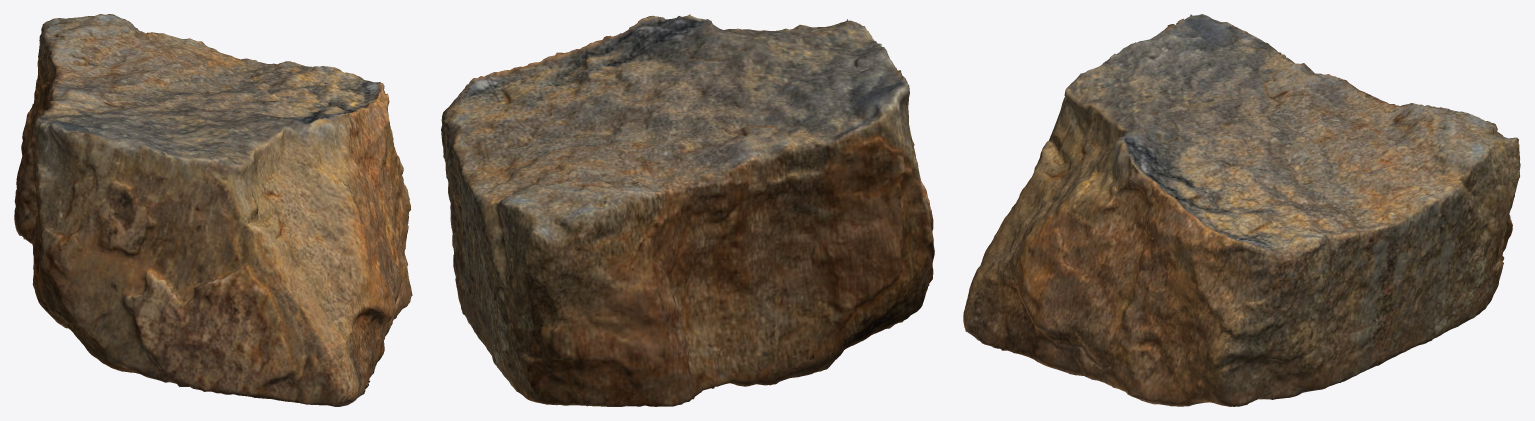
File: gypsum.glb
3 views of the same model, side by side, from view 1: azimuth 30°, elevation 25°; view 2: azimuth 150°, elevation 25°; view 3: azimuth 270°, elevation 25° (orthographic). The views are drawn at different scales.
Visible parts, largest first — view 1: boulder_03_LOD0; view 2: boulder_03_LOD0; view 3: boulder_03_LOD0.
Part boxes in pixels (bbox=[...]): boulder_03_LOD0: bbox=[14, 14, 412, 406]; boulder_03_LOD0: bbox=[441, 14, 934, 406]; boulder_03_LOD0: bbox=[963, 14, 1520, 406].
Bounding box in the file's own units: 2.41 × 1.47 × 3.07.
1 material, 1 textured.
